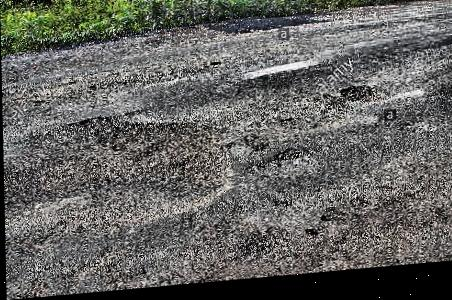pothole: (62, 106, 230, 221), (337, 86, 382, 113), (315, 211, 345, 228), (270, 153, 302, 167), (300, 232, 319, 243), (207, 63, 222, 72)
